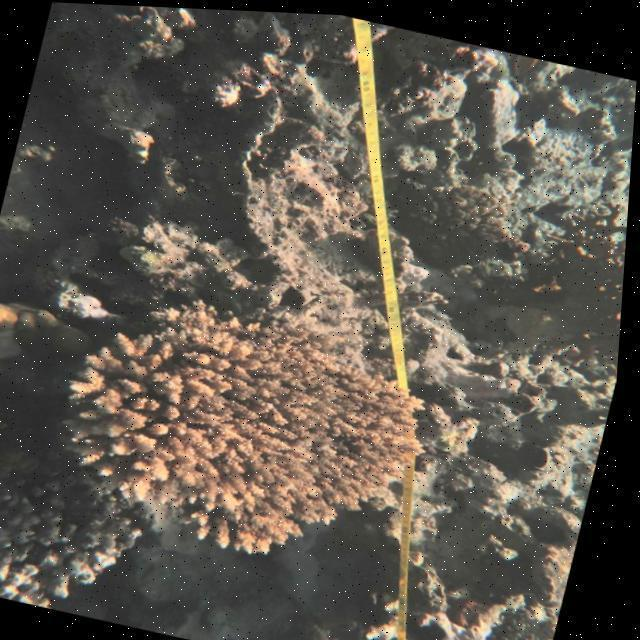Dead Coral: (0, 433, 149, 620)
Healthy Coral: (49, 282, 451, 584), (403, 152, 540, 258)
